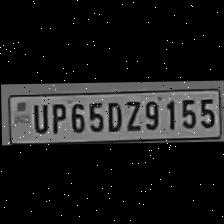1: (160, 96, 178, 128)
5: (196, 94, 218, 128), (176, 94, 196, 128), (84, 98, 104, 131)
6: (65, 99, 84, 132)
9: (138, 96, 160, 130)
D: (102, 97, 122, 130)
P: (46, 99, 64, 133)
U: (26, 100, 48, 133)
Z: (121, 96, 141, 131)
